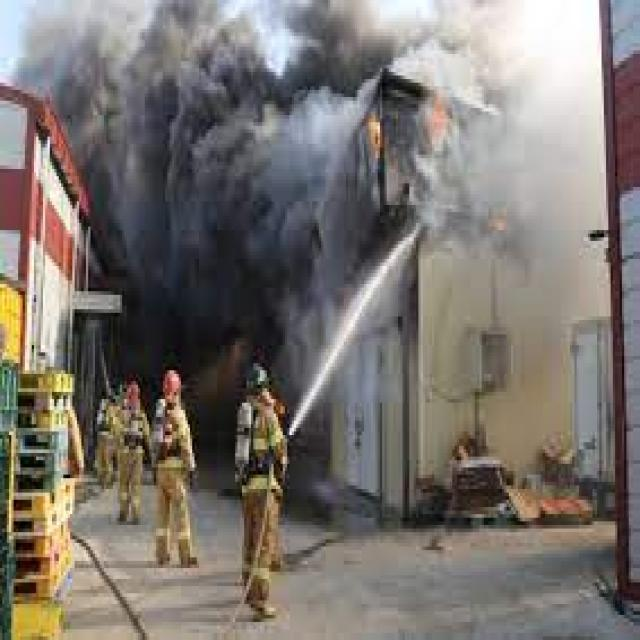Fire: (21, 93, 90, 240), (424, 94, 452, 148), (366, 115, 384, 159)
Smoke: (192, 0, 429, 104), (142, 134, 310, 278), (2, 2, 128, 104)
